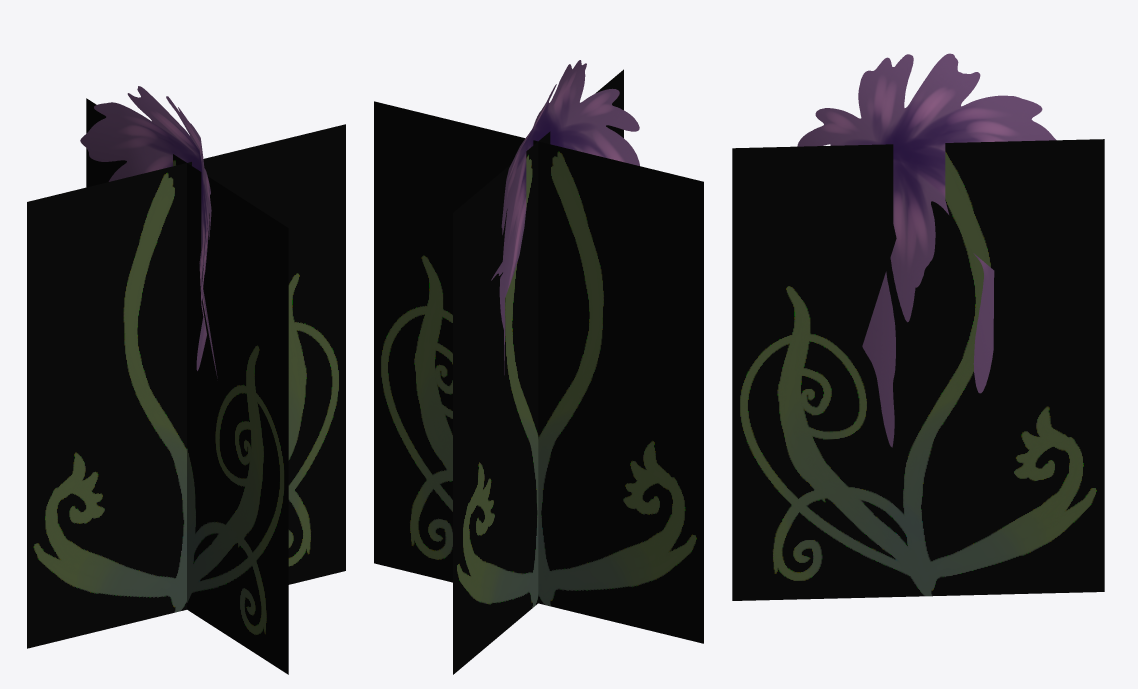
File: BloemPaars.fbx
The picture shows the model from 3 angles, left to right: view 1: azimuth 30°, elevation 25°; view 2: azimuth 150°, elevation 25°; view 3: azimuth 270°, elevation 25°; orthographic projection. The views are drawn at different scales.
Parts seen in each view (by area): view 1: polySurface1, polySurface2, pCube3; view 2: polySurface1, polySurface2, pCube3; view 3: polySurface2, pCube3.
Boxes of the visible parts, x1,y1,x2,y2 form: polySurface1: (27, 124, 345, 648); polySurface2: (86, 98, 288, 674); pCube3: (80, 86, 217, 378); polySurface1: (374, 101, 703, 643); polySurface2: (453, 69, 623, 674); pCube3: (491, 60, 639, 374); polySurface2: (732, 139, 1104, 600); pCube3: (797, 53, 1056, 447).
Size of the model in its own units: 0.6994 by 1.13 by 0.7338.
